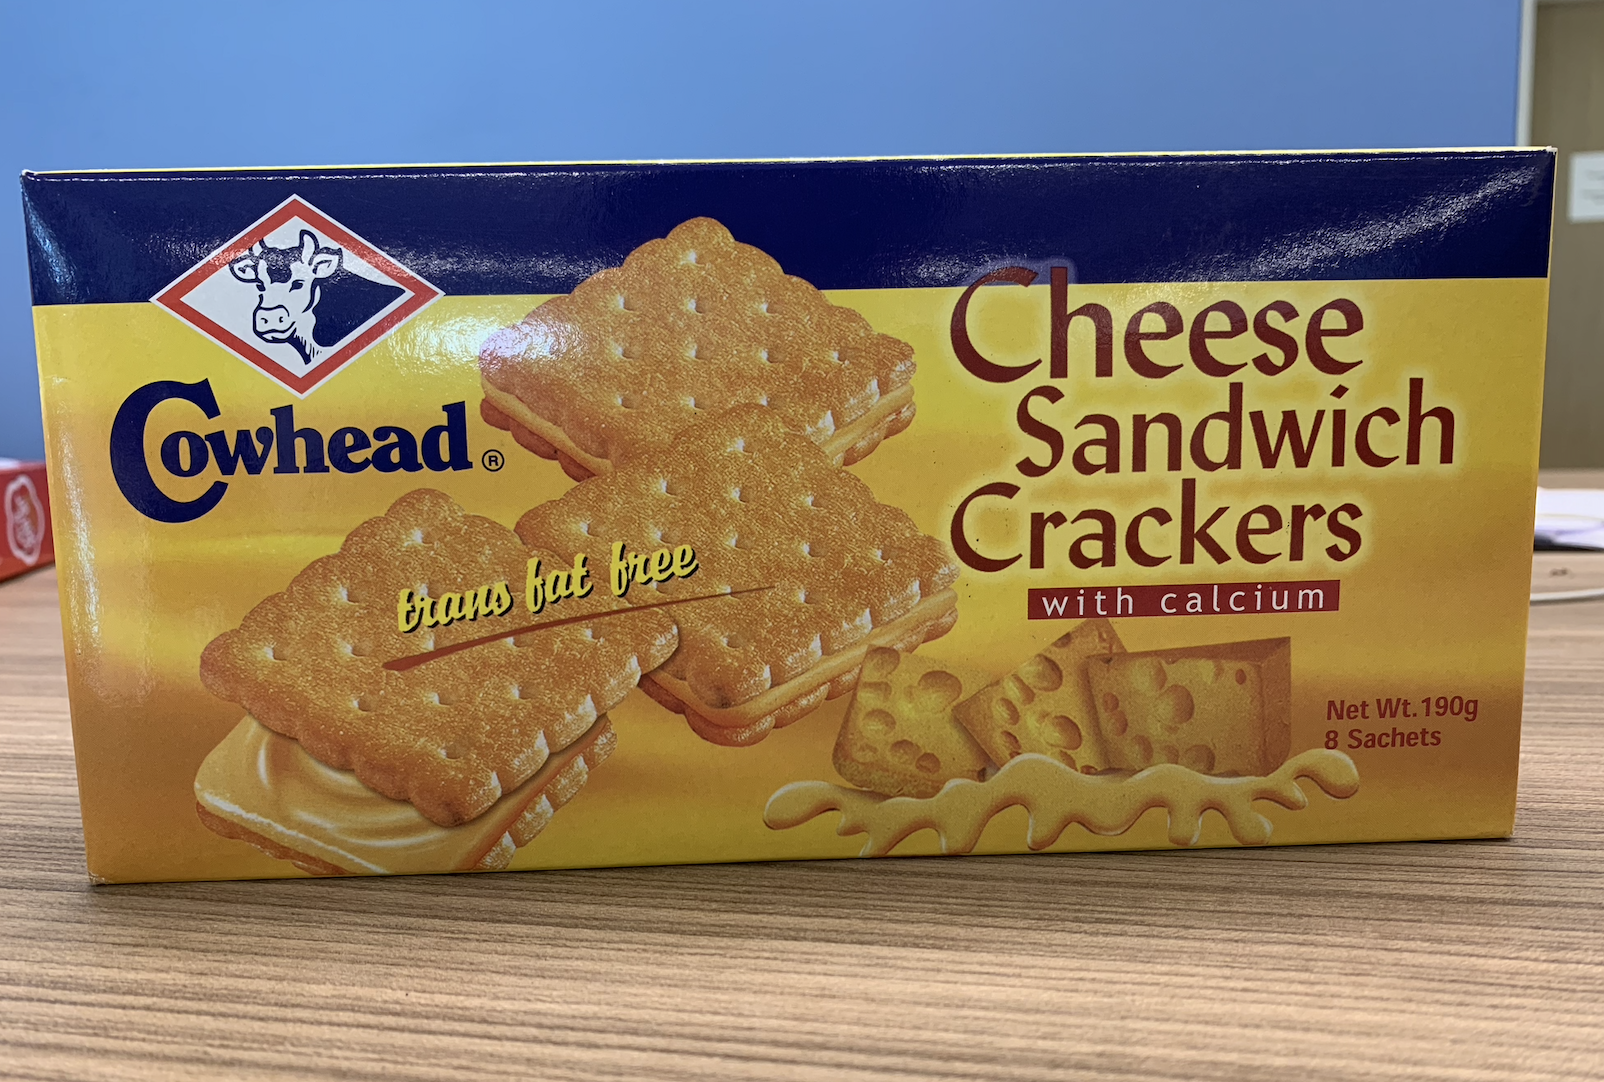crackers_100g-199g: (77, 200, 1511, 812)
